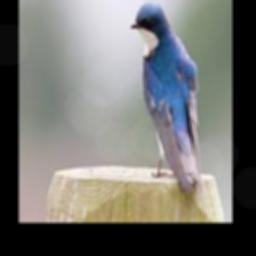Swallow: (131, 2, 200, 194)
